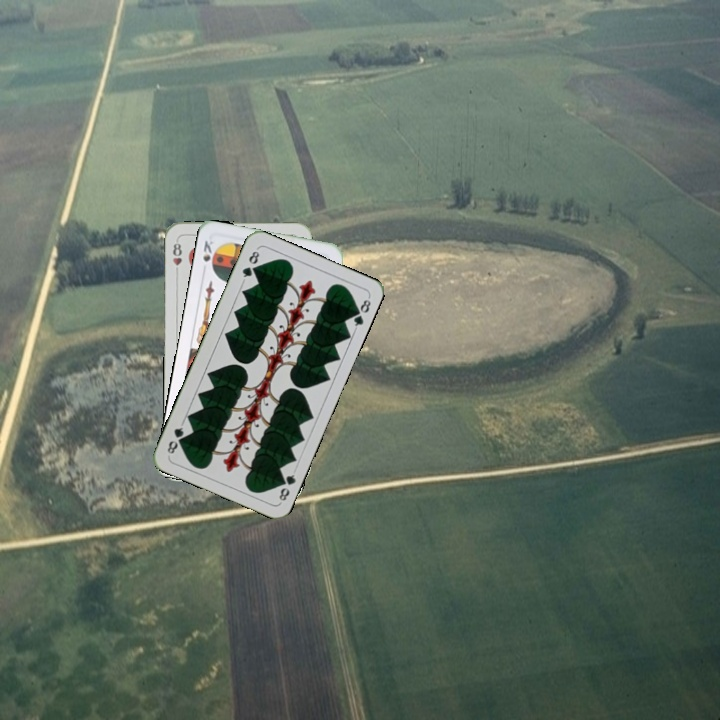G8: (238, 245, 262, 283), (274, 466, 298, 503)
H8: (168, 236, 184, 277)
SK: (199, 236, 216, 275)
